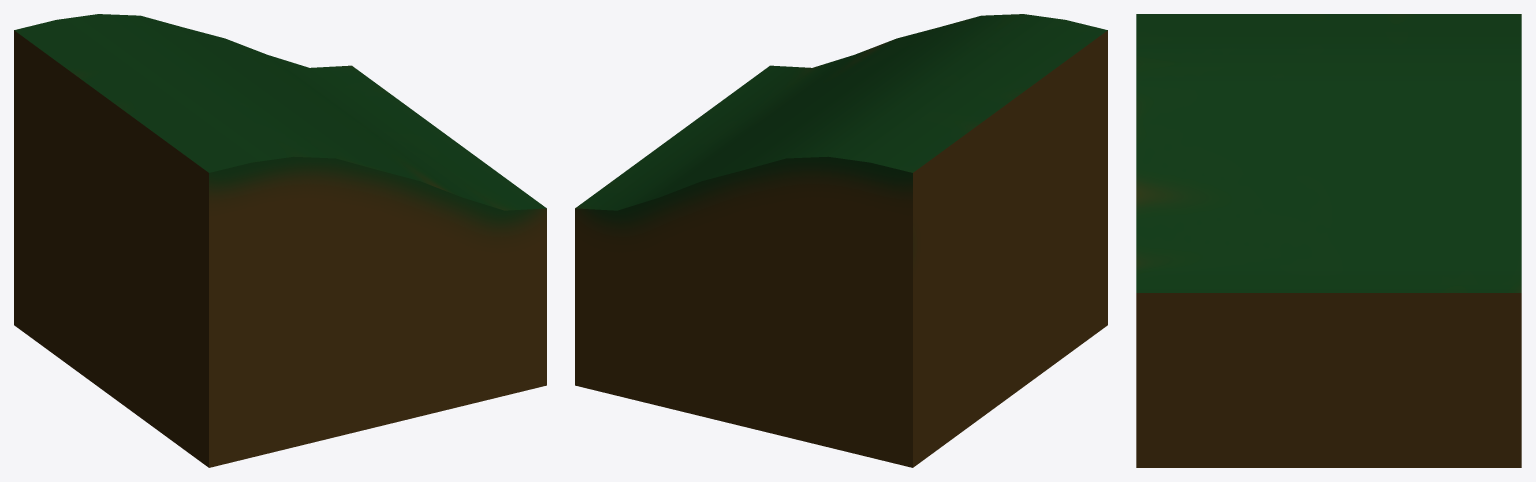
Rendered from hillMiddle.fbx.
3 renders of one model, left to right at view 1: azimuth 30°, elevation 25°; view 2: azimuth 150°, elevation 25°; view 3: azimuth 270°, elevation 25°, orthographic.
Parts seen in each view (by area): view 1: Box001; view 2: Box001; view 3: Box001.
Part boxes in pixels (x1,y1,x2,y2): Box001: (14, 14, 546, 467); Box001: (575, 14, 1107, 467); Box001: (1136, 14, 1521, 467).
Bounding box in the file's own units: 60 × 50.06 × 60.
1 material, 1 textured.
